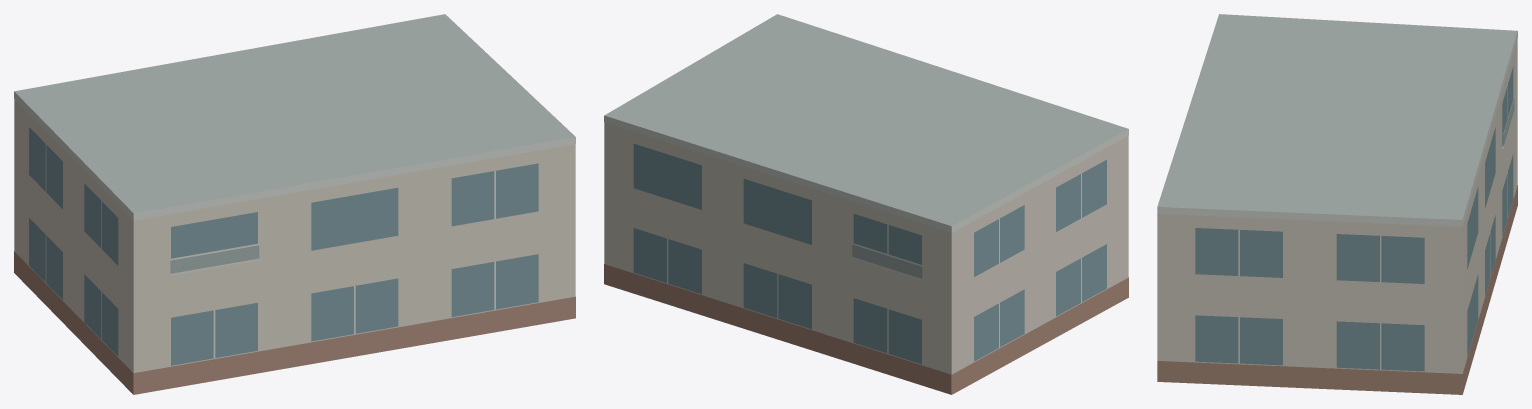
File: survey-upis-32655104.glb
The picture shows the model from 3 angles, left to right: view 1: azimuth 30°, elevation 25°; view 2: azimuth 150°, elevation 25°; view 3: azimuth 270°, elevation 25°; orthographic projection. The views are drawn at different scales.
Visible parts, largest first — view 1: survey-upis-32655104.tmp; view 2: survey-upis-32655104.tmp; view 3: survey-upis-32655104.tmp.
Part boxes in pixels (bbox=[...]): survey-upis-32655104.tmp: bbox=[14, 14, 575, 394]; survey-upis-32655104.tmp: bbox=[604, 14, 1128, 394]; survey-upis-32655104.tmp: bbox=[1157, 14, 1517, 394].
Bounding box in the file's own units: 15.42 × 6.1 × 11.4.
